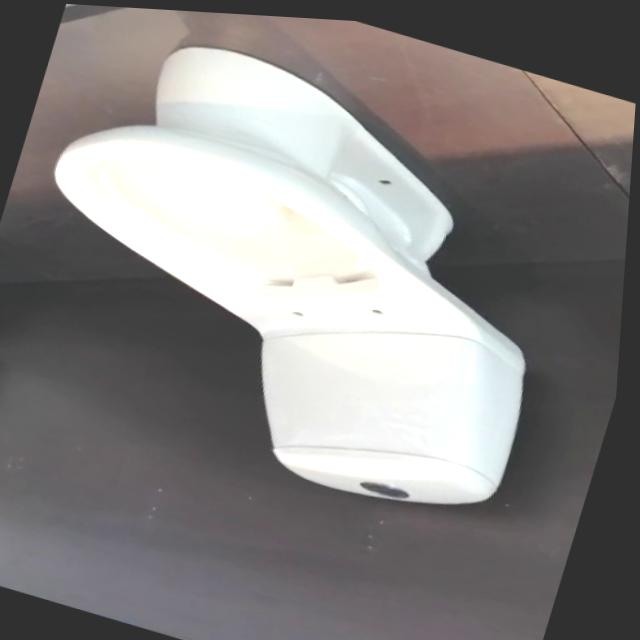toilet: (0, 7, 608, 533)
